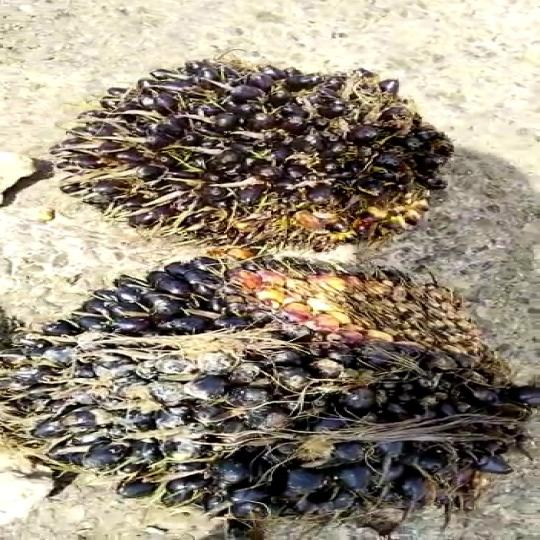mentah: (0, 228, 540, 520), (62, 46, 477, 247)
